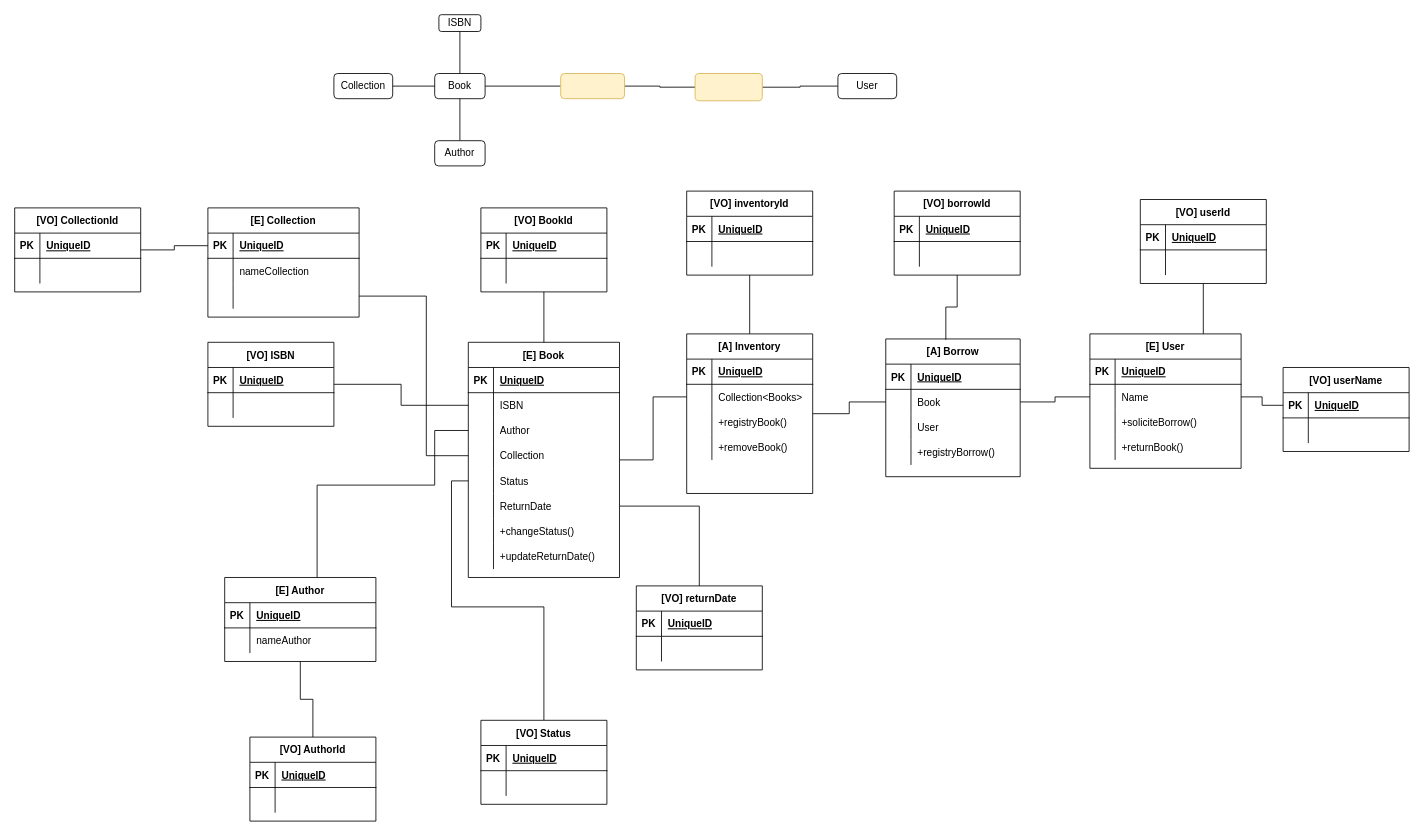
Image size: 1424x836. Some labels were removed from this diagram. The shapes that lost their labels are listed below. From the top down, each one's centre as x and y in pixels, then its label:
At point (592, 86): "Inventory".
At point (728, 87): "Borrow".
